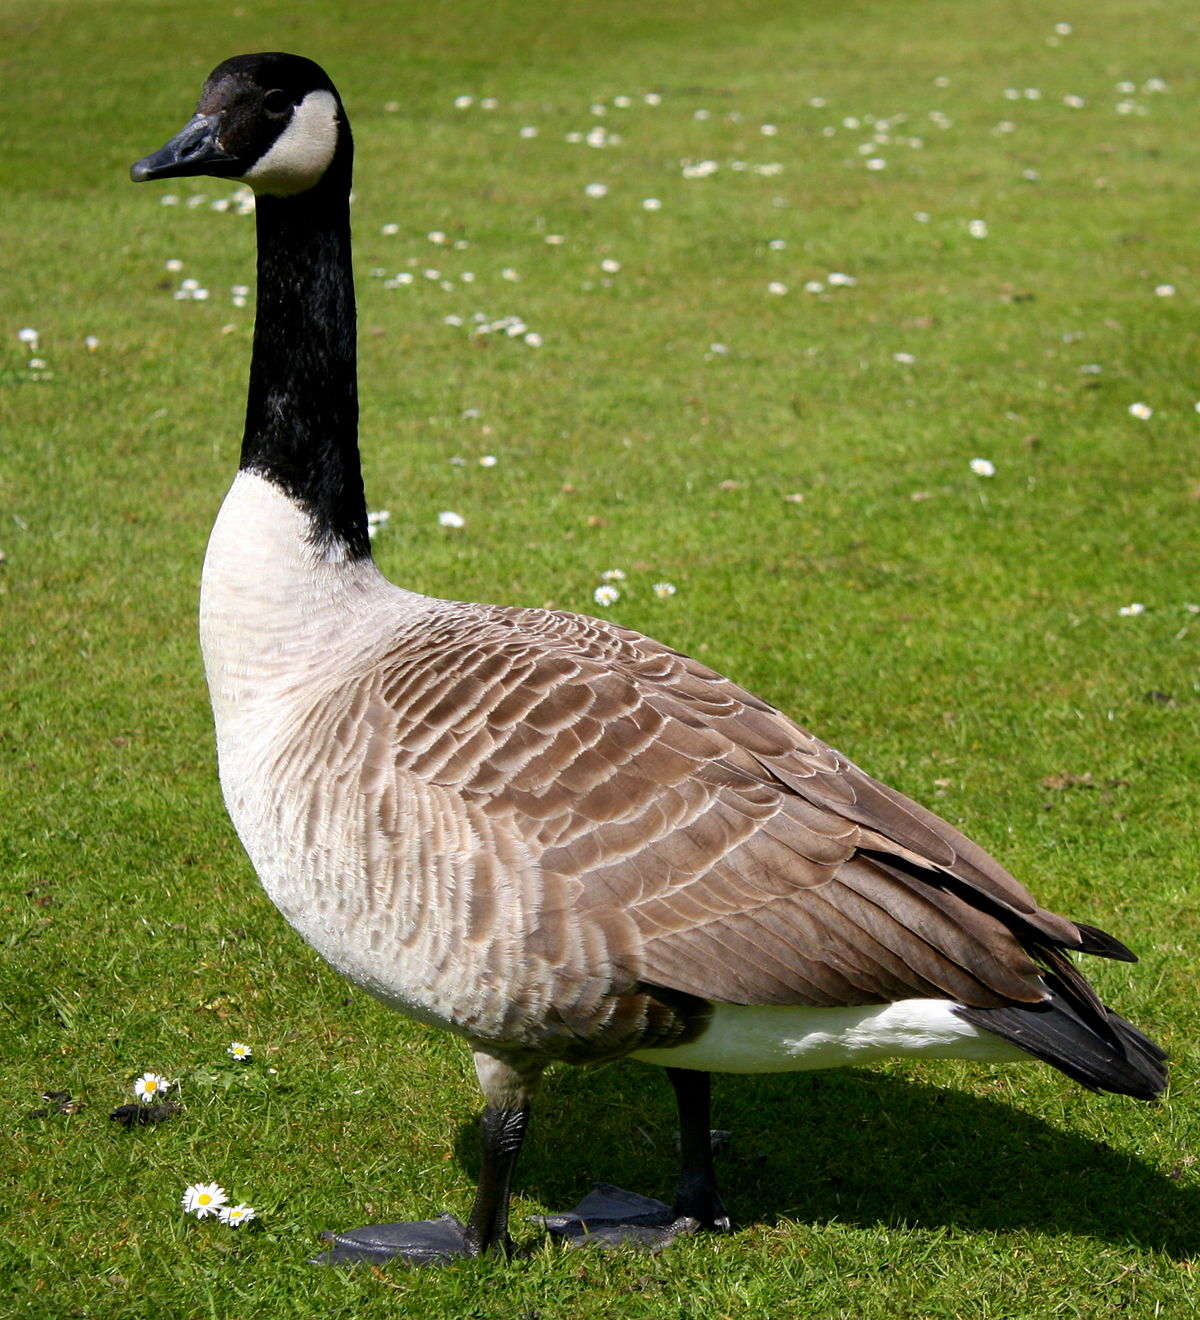goose: (110, 43, 1180, 1277)
